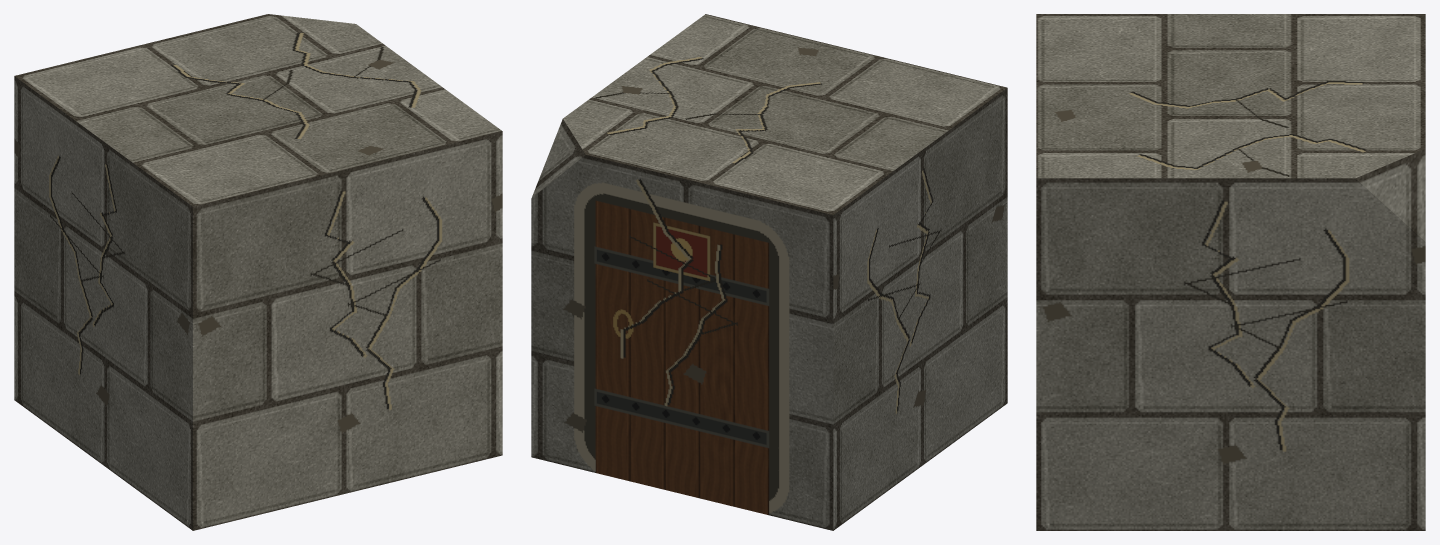
The model's file is magazine_z1.glb.
3 renders of one model, left to right at view 1: azimuth 30°, elevation 25°; view 2: azimuth 150°, elevation 25°; view 3: azimuth 270°, elevation 25°, orthographic. The views are drawn at different scales.
Parts seen in each view (by area): view 1: magazine_z1; view 2: magazine_z1; view 3: magazine_z1.
Part boxes in pixels (<box>): magazine_z1: <box>14,14,502,530</box>; magazine_z1: <box>531,14,1007,530</box>; magazine_z1: <box>1036,14,1425,530</box>.
Bounding box in the file's own units: 1 × 1 × 1.
Materials: 1 (1 with a texture image).
